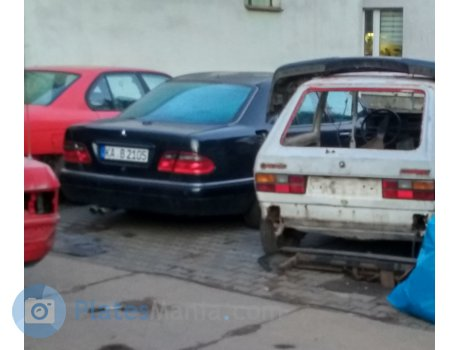License Plates: (103, 144, 149, 161)
